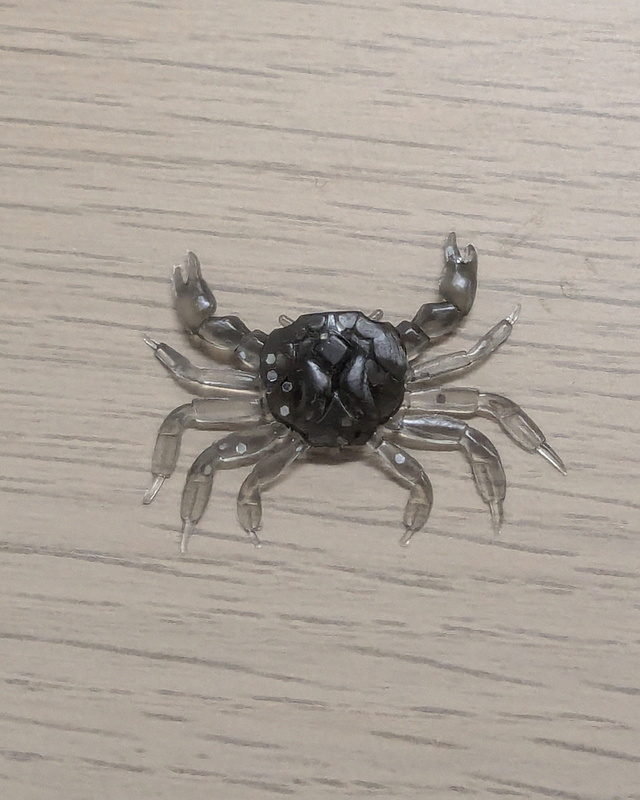crab1: (131, 225, 574, 558)
